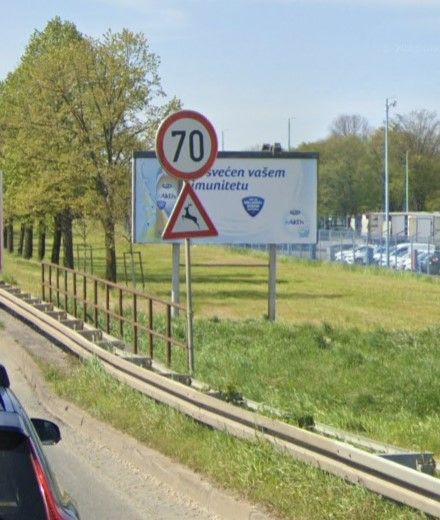Divljač na cesti: (161, 183, 219, 240)
Ograničenje brzine 70: (156, 110, 219, 180)
